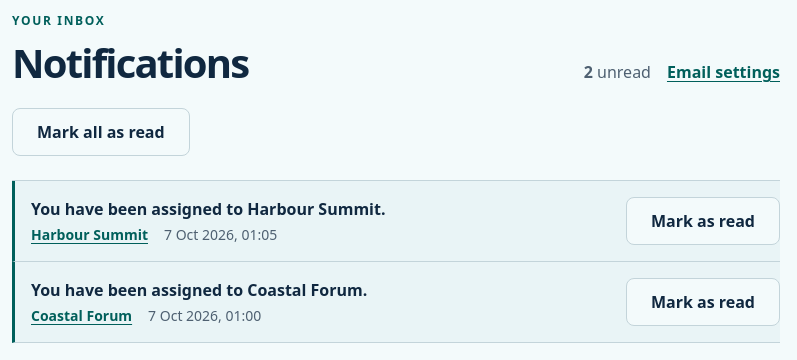
Test: AC2 - marking notifications read › [QA-SPL-101-022] marking all read clears every unread notice, then the action is disabled
Click the button "Mark all as read": [101, 132] box [12, 108, 190, 156]
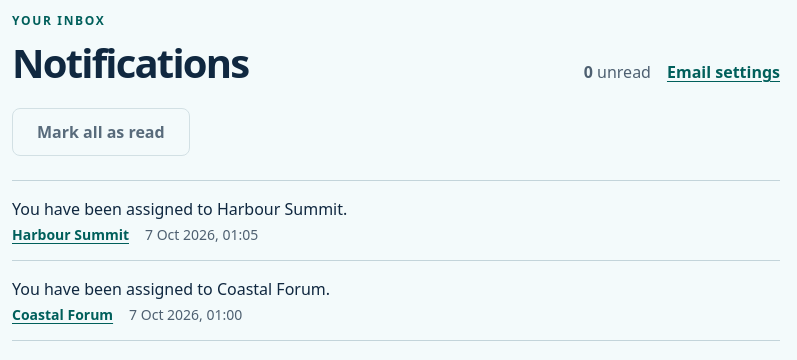
Check: the text "Unread:" is not shown
Check: the message reads "0 unread", box [584, 61, 651, 83]
Check: the button "Mark all as read" is disabled, box [12, 108, 190, 156]
